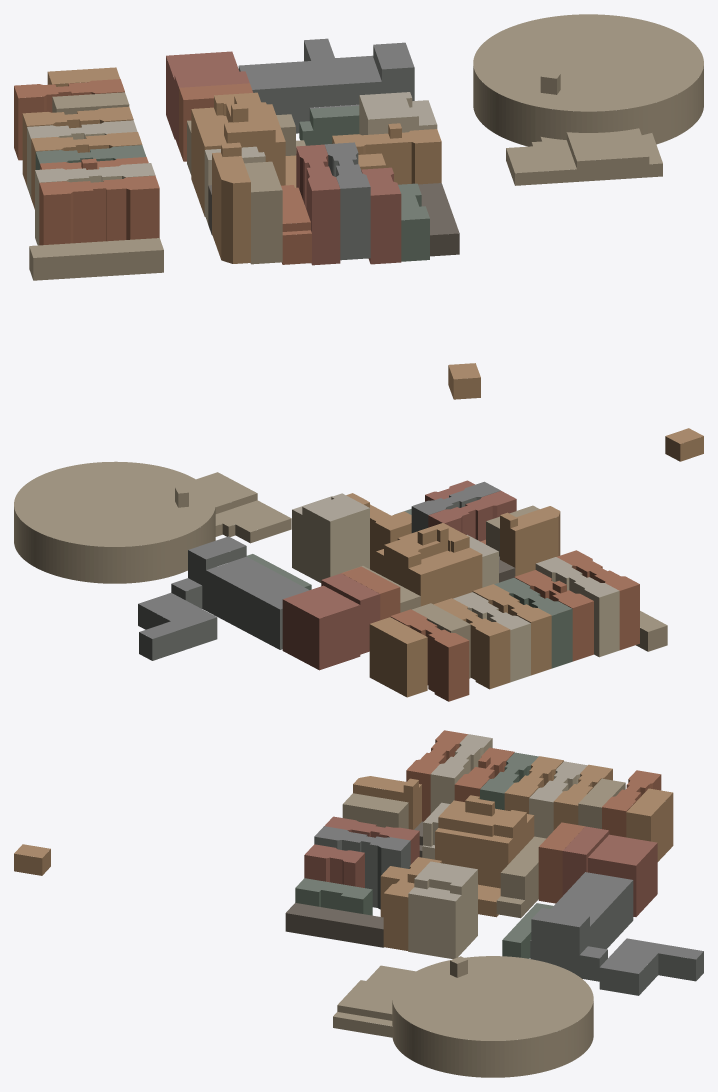
The model's file is tile-5_7.glb.
3 renders of one model, top to bottom at view 1: azimuth 30°, elevation 25°; view 2: azimuth 150°, elevation 25°; view 3: azimuth 270°, elevation 25°, orthographic. The views are drawn at different scales.
Visible parts, largest first — view 1: roof, wall; view 2: wall, roof; view 3: wall, roof.
Part boxes in pixels (<box>): roof: <box>14,14,703,379</box>; wall: <box>14,41,703,399</box>; wall: <box>14,436,703,701</box>; roof: <box>14,428,703,647</box>; wall: <box>14,738,703,1077</box>; roof: <box>14,730,703,1040</box>.
Size of the model in its own units: 204 by 29.22 by 202.
